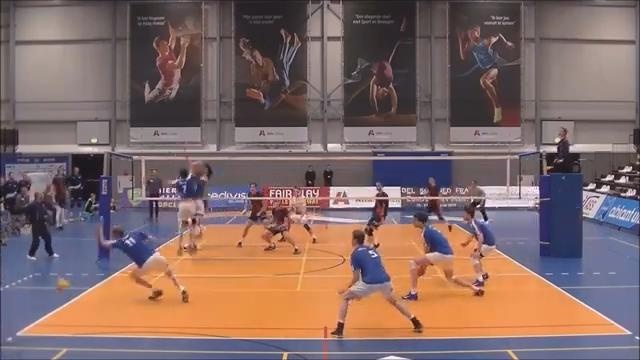attacco: (187, 150, 213, 240)
difesa: (91, 217, 190, 305)
